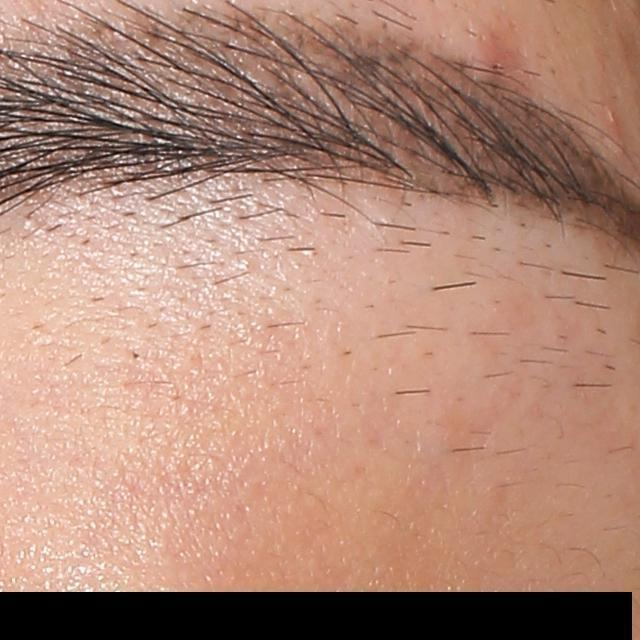papule: (459, 28, 522, 90)
